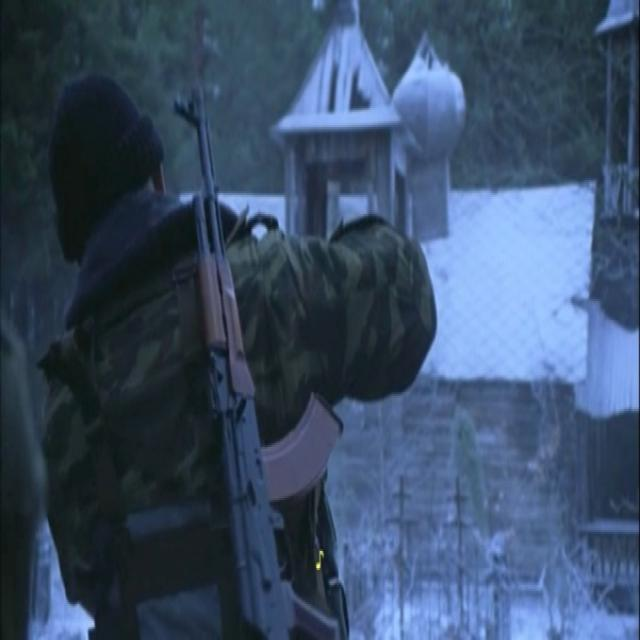rifle: (172, 78, 355, 640)
